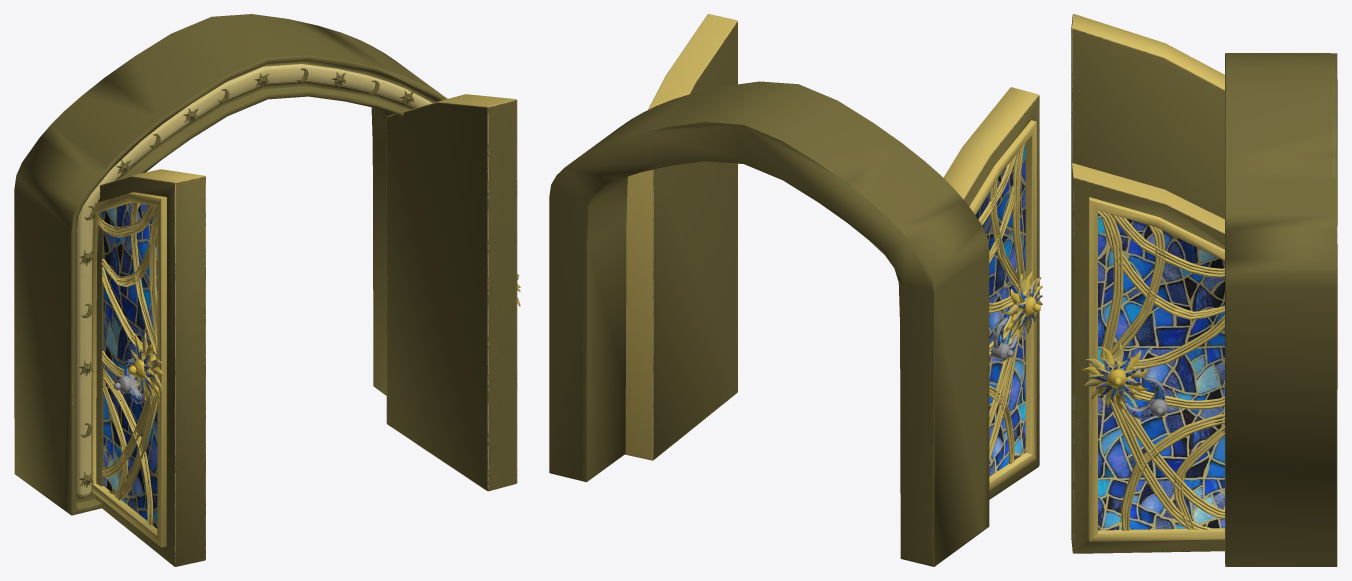
Rendered from doorOpen_lowPolyCompressed.glb.
The picture shows the model from 3 angles, left to right: view 1: azimuth 30°, elevation 25°; view 2: azimuth 150°, elevation 25°; view 3: azimuth 270°, elevation 25°; orthographic projection. The views are drawn at different scales.
Parts seen in each view (by area): view 1: polySurface15.005; view 2: polySurface15.005; view 3: polySurface15.005.
Part boxes in pixels (x1,y1,x2,y2): polySurface15.005: [14, 14, 520, 566]; polySurface15.005: [549, 14, 1042, 566]; polySurface15.005: [1071, 14, 1337, 566].
Size of the model in its own units: 0.2662 by 0.2623 by 0.1572.
Materials: 5 (5 with a texture image).
